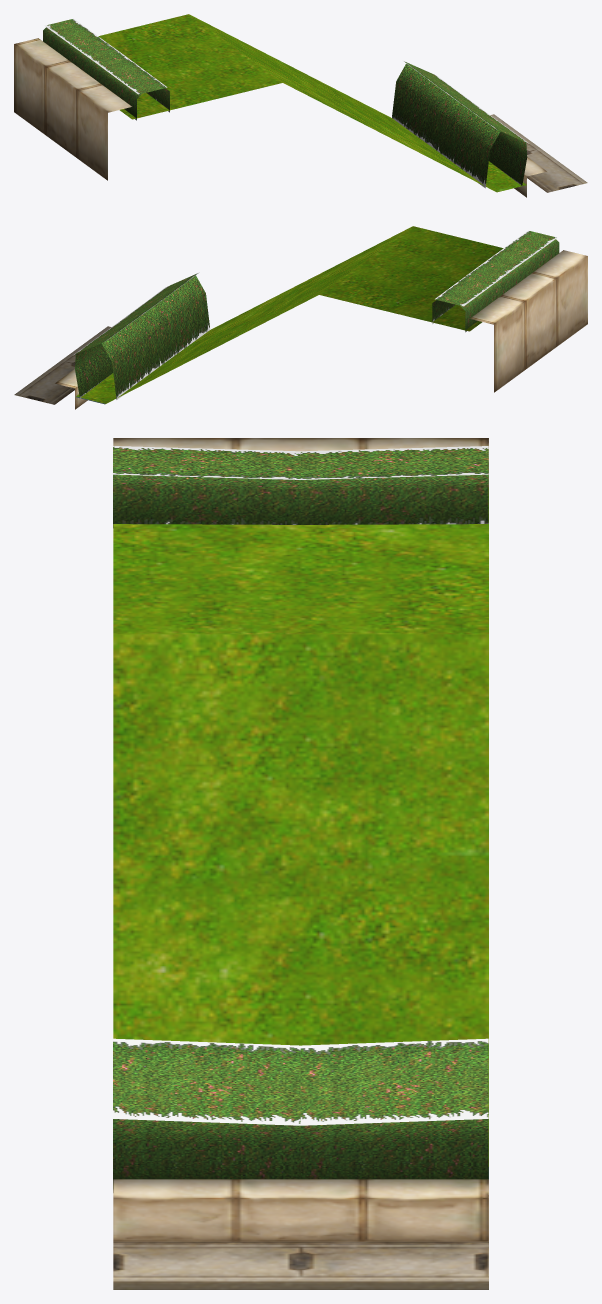
The model's file is a_SWEstair02.glb.
3 views of the same model, one above another, from view 1: azimuth 30°, elevation 25°; view 2: azimuth 150°, elevation 25°; view 3: azimuth 270°, elevation 25° (orthographic). The views are drawn at different scales.
Parts seen in each view (by area): view 1: a_SWEstair02; view 2: a_SWEstair02; view 3: a_SWEstair02.
Boxes of the visible parts, x1,y1,x2,y2 form: a_SWEstair02: (14,14,587,197); a_SWEstair02: (14,226,587,409); a_SWEstair02: (113,438,488,1289).
Size of the model in its own units: 5.9 by 2.38 by 2.
4 materials, 4 textured.
